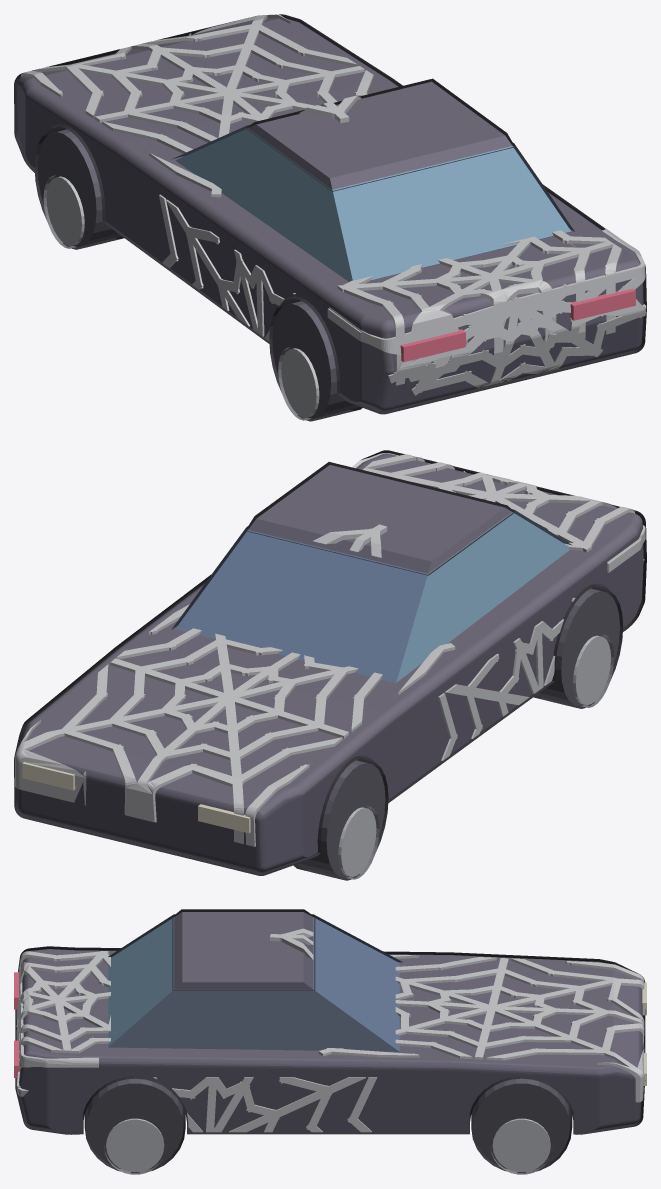
Rendered from car_brute_0.glb.
The picture shows the model from 3 angles, top to bottom: view 1: azimuth 30°, elevation 25°; view 2: azimuth 150°, elevation 25°; view 3: azimuth 270°, elevation 25°; orthographic projection. The views are drawn at different scales.
Visible parts, largest first — view 1: car; view 2: car; view 3: car.
Part boxes in pixels (x1,y1,x2,y2): car: (14, 14, 646, 421); car: (14, 450, 646, 880); car: (14, 909, 646, 1174).
Bounding box in the file's own units: 2.11 × 1.4 × 4.7.
